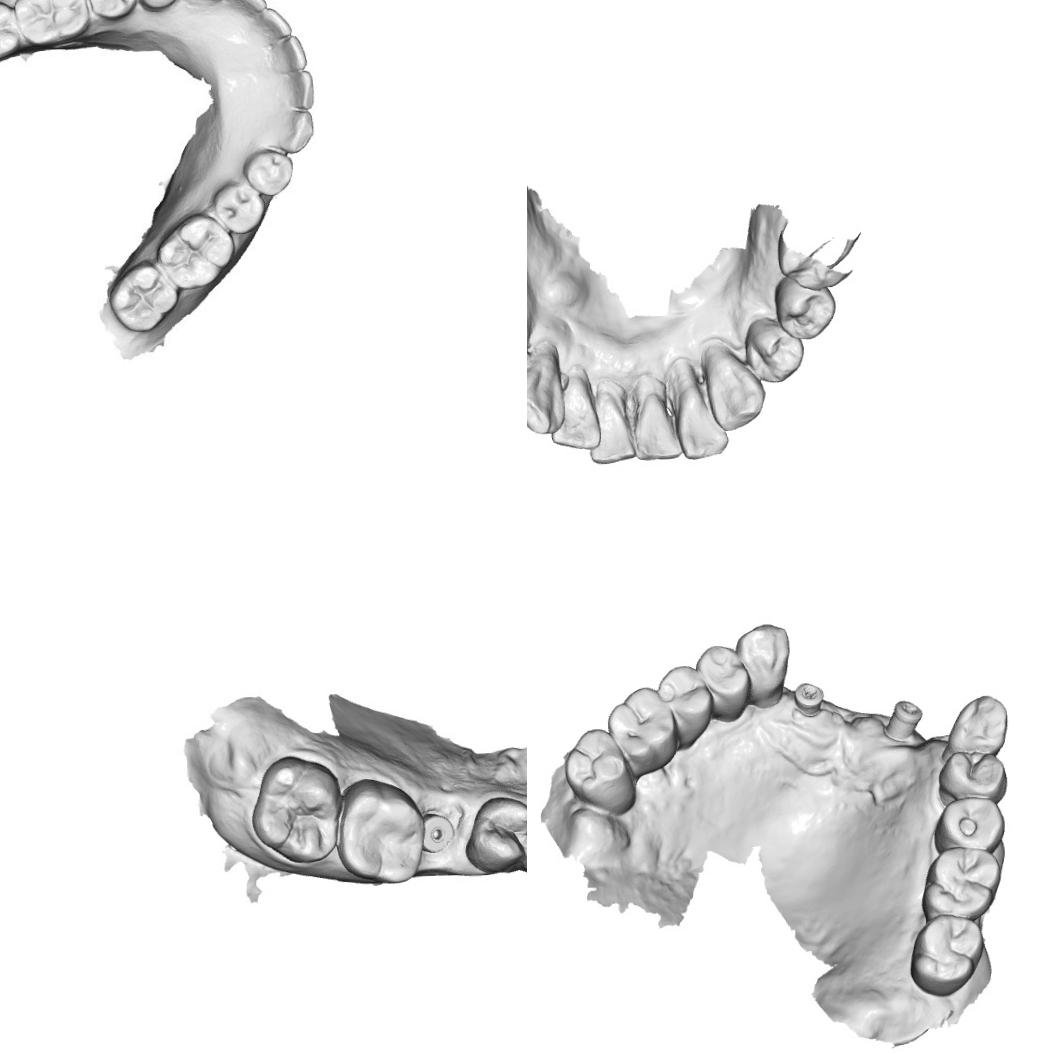canine: (704, 350, 768, 431), (735, 620, 792, 704), (939, 694, 1010, 758), (527, 345, 565, 438), (276, 108, 312, 150)
implant: (420, 809, 456, 853)
implant_plus: (882, 698, 925, 743), (792, 678, 826, 718)
incisor: (675, 364, 730, 459), (630, 382, 684, 463), (586, 386, 640, 466), (548, 374, 602, 454), (261, 36, 309, 76), (272, 71, 315, 111), (260, 6, 291, 48), (224, 0, 264, 19)
molar: (248, 752, 340, 865), (335, 775, 423, 886), (906, 912, 986, 999), (562, 725, 638, 816), (606, 684, 680, 772), (918, 846, 1004, 918), (156, 214, 227, 288), (106, 264, 174, 332), (17, 0, 89, 48), (0, 2, 18, 58)
premolar: (462, 793, 527, 877), (656, 663, 716, 745), (695, 643, 752, 724), (930, 795, 1007, 854), (771, 272, 835, 342), (742, 316, 803, 384), (936, 748, 1010, 804), (212, 179, 260, 238), (244, 145, 294, 194), (87, 0, 136, 22), (135, 0, 191, 13)
